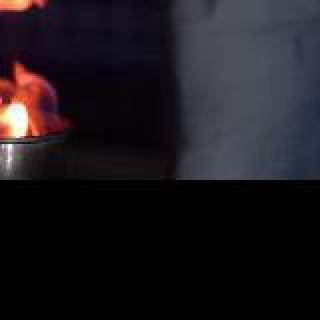fire: (0, 0, 60, 148)
